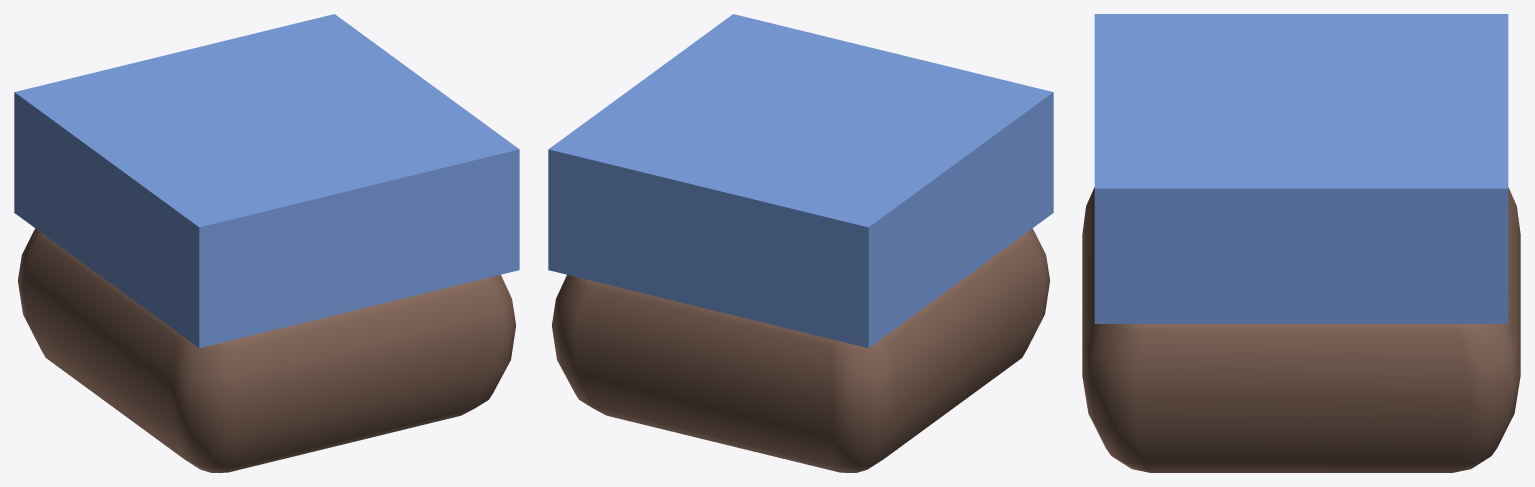
Rendered from BlocoAgua.fbx.
The picture shows the model from 3 angles, left to right: view 1: azimuth 30°, elevation 25°; view 2: azimuth 150°, elevation 25°; view 3: azimuth 270°, elevation 25°; orthographic projection. The views are drawn at different scales.
Parts seen in each view (by area): view 1: pCube5, BlocoAgua; view 2: pCube5, BlocoAgua; view 3: pCube5, BlocoAgua.
Part boxes in pixels (box(x1,y1,x2,y2)): pCube5: box(14, 14, 519, 348); BlocoAgua: box(17, 228, 516, 472); pCube5: box(548, 14, 1053, 348); BlocoAgua: box(551, 228, 1050, 472); pCube5: box(1094, 14, 1508, 323); BlocoAgua: box(1082, 187, 1520, 472).
Size of the model in its own units: 106 by 79.63 by 106.
